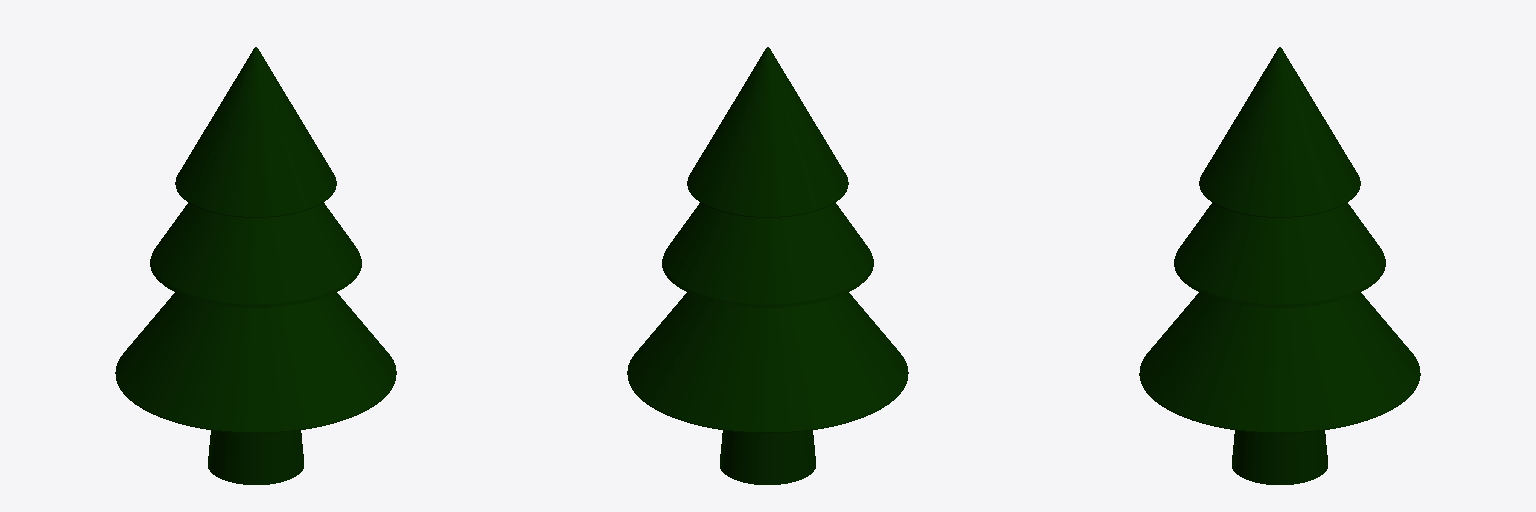
The model's file is pine.obj.
3 views of the same model, side by side, from view 1: azimuth 30°, elevation 25°; view 2: azimuth 150°, elevation 25°; view 3: azimuth 270°, elevation 25° (orthographic).
Parts seen in each view (by area): view 1: Objeto Inteligente de Vetor; view 2: Objeto Inteligente de Vetor; view 3: Objeto Inteligente de Vetor.
Boxes of the visible parts, box(x1,y1,x2,y2) form: Objeto Inteligente de Vetor: box(115, 47, 396, 484); Objeto Inteligente de Vetor: box(627, 47, 908, 484); Objeto Inteligente de Vetor: box(1139, 47, 1420, 484).
Bounding box in the file's own units: 244 × 400 × 244.